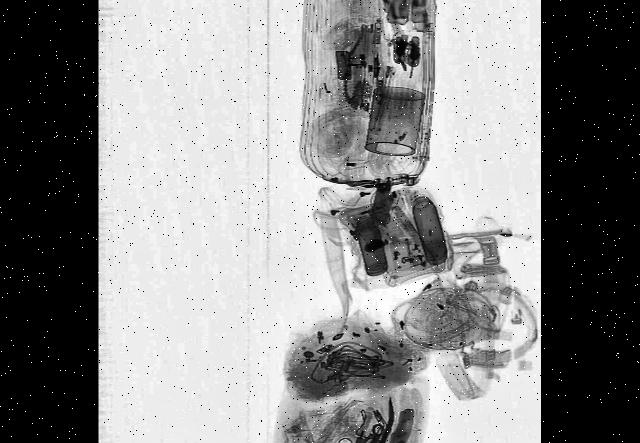Wrench: (340, 419, 386, 443)
